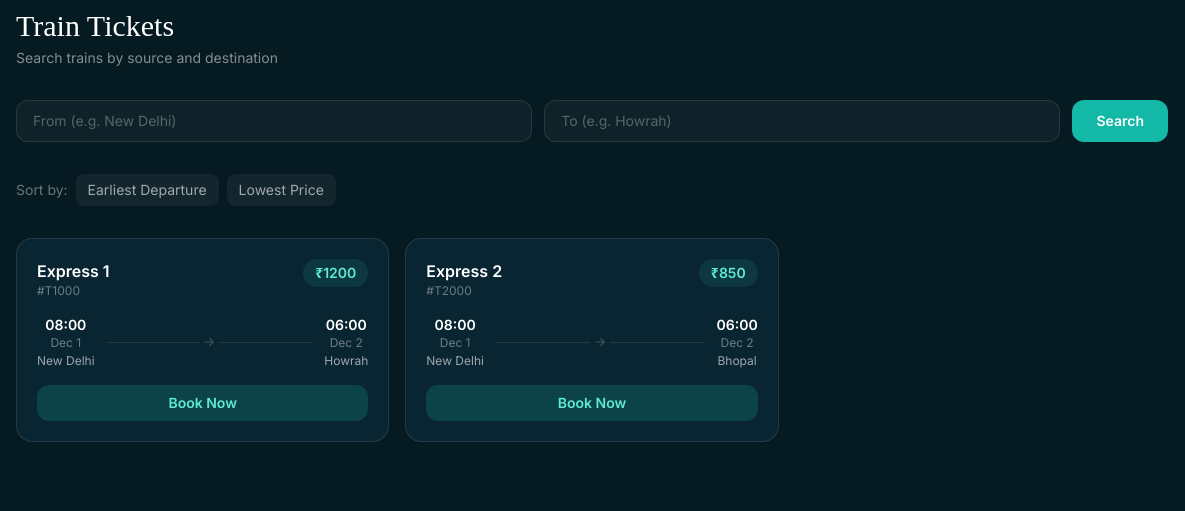
TrainsPage › sameStation_ShowsInlineError_AndDoesNotCallApi
In the field with placeholder "From (e.g. New Delhi)": [274, 121] box [16,100,532,142], type "Delhi"
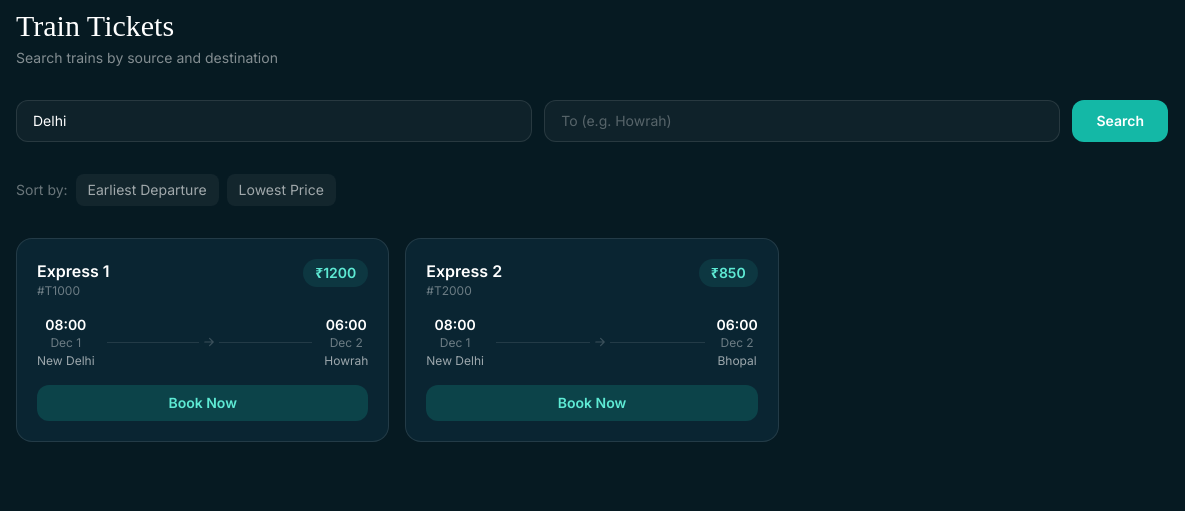
In the field with placeholder "To (e.g. Howrah)": [802, 121] box [544,100,1060,142], type "Delhi"
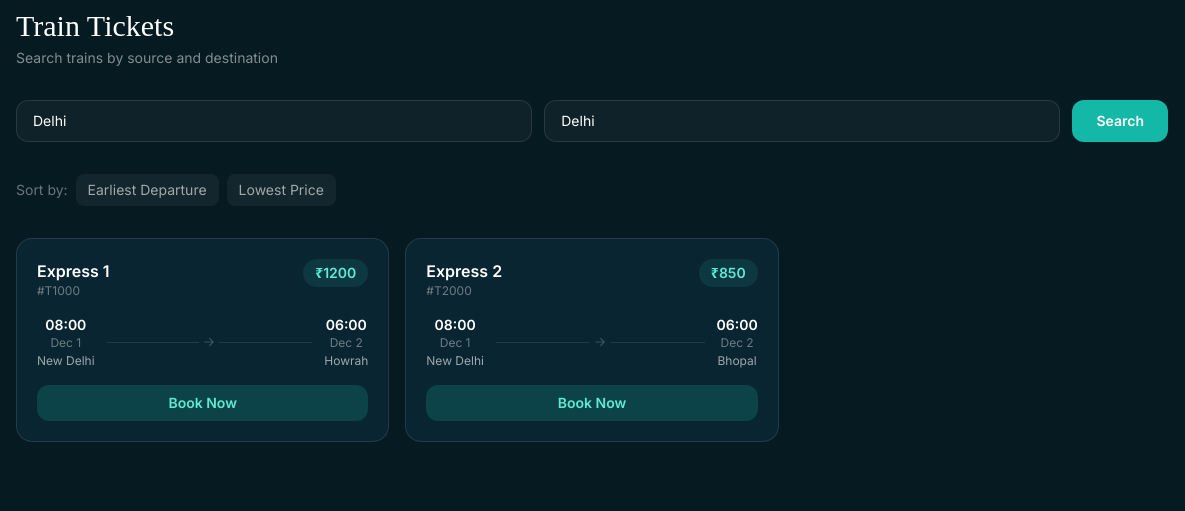
Click the button "Search": [1120, 121] box [1072,100,1168,142]
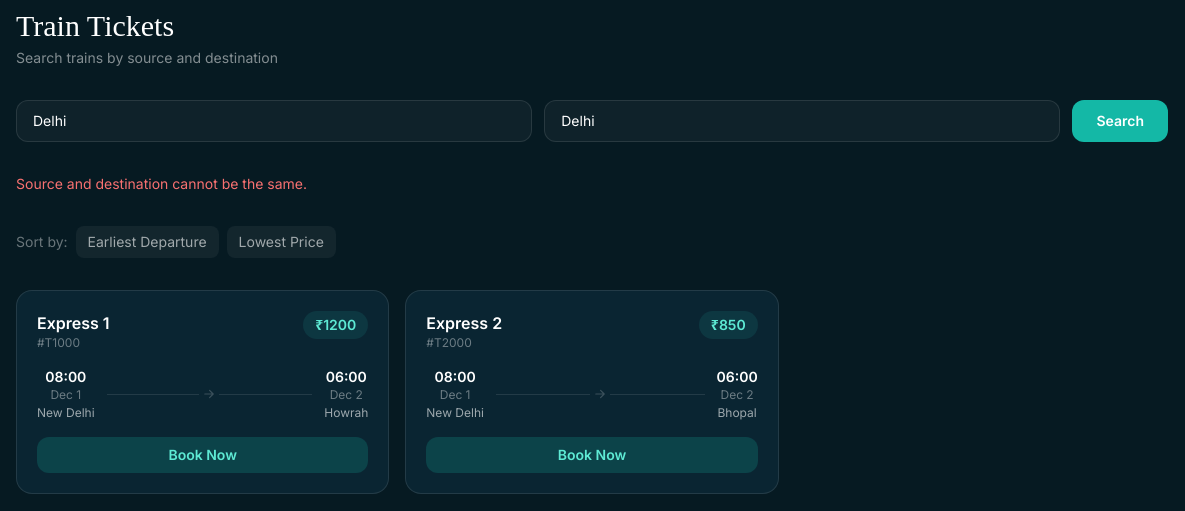
expect the text "Source and destination cannot be the same." is shown: met, box [16,175,307,192]
